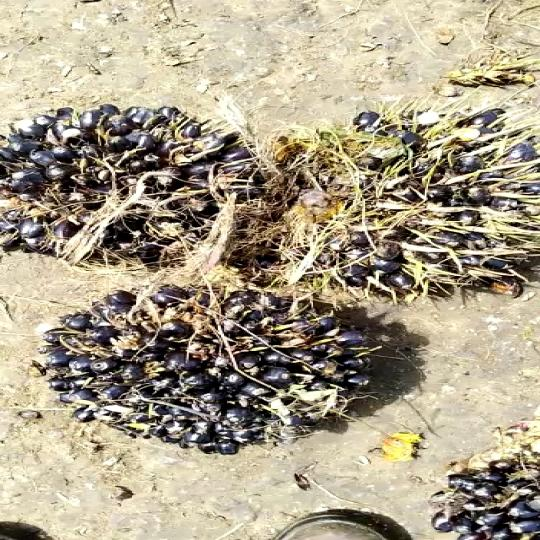mentah: (35, 268, 377, 461), (250, 94, 540, 313), (0, 94, 237, 271)
